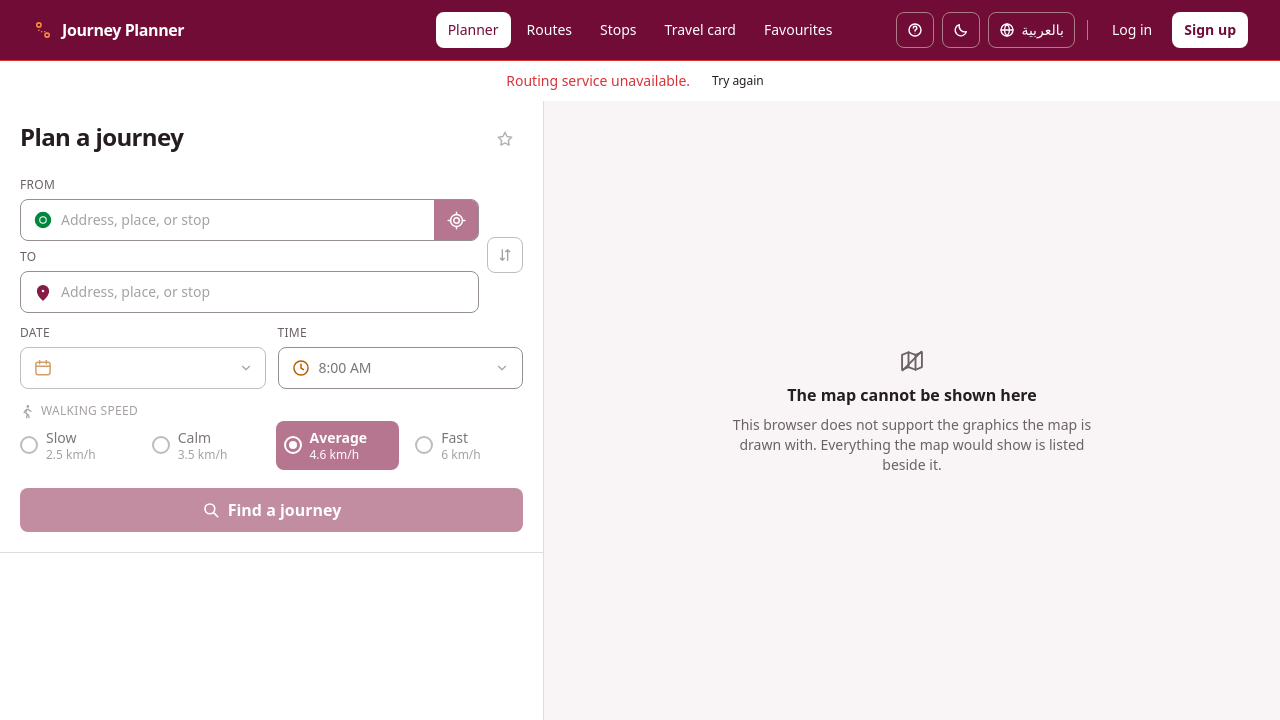
it: app shell › translates the whole shell, not just the page
Click the button "بالعربية" at (1032, 30), box x1=988 y1=12 x2=1075 y2=48
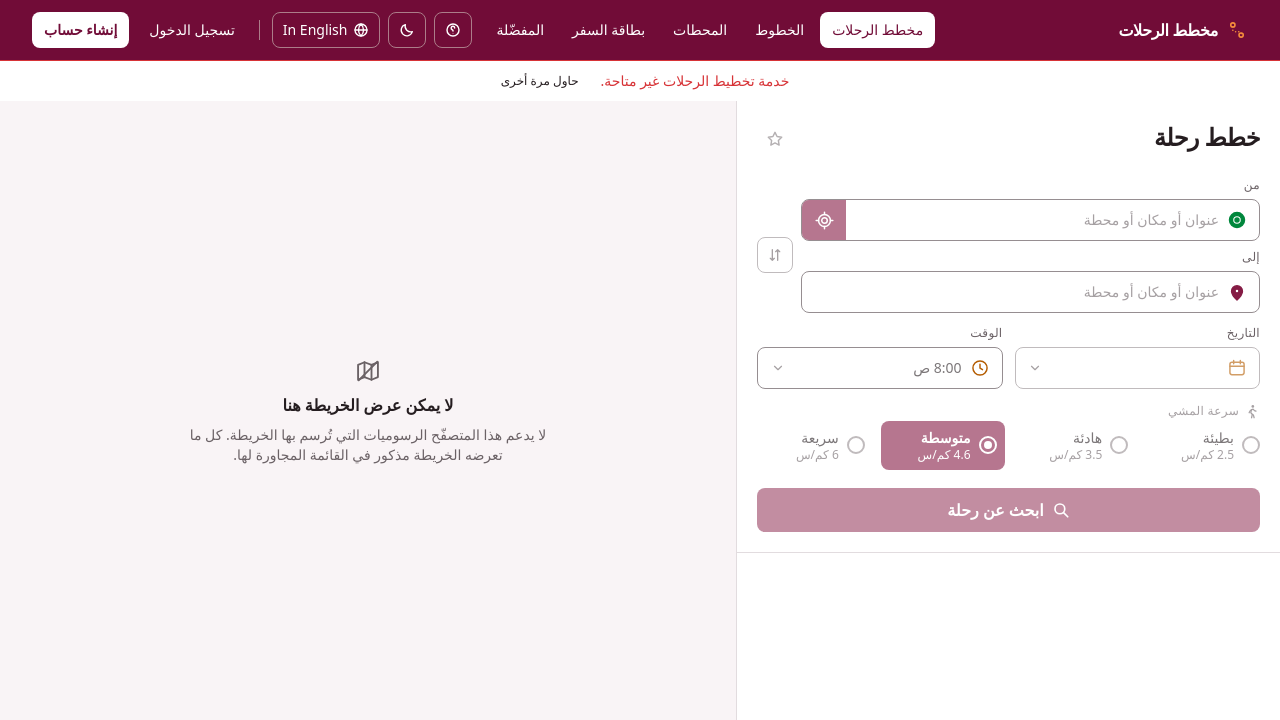
expect the navigation bar named "الرئيسية" is shown: met, box x1=484 y1=12 x2=935 y2=48
expect the button "تسجيل الدخول" is shown: met, box x1=137 y1=12 x2=247 y2=48
